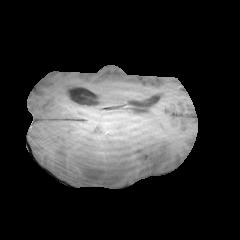glioma: (53, 128, 146, 186)
